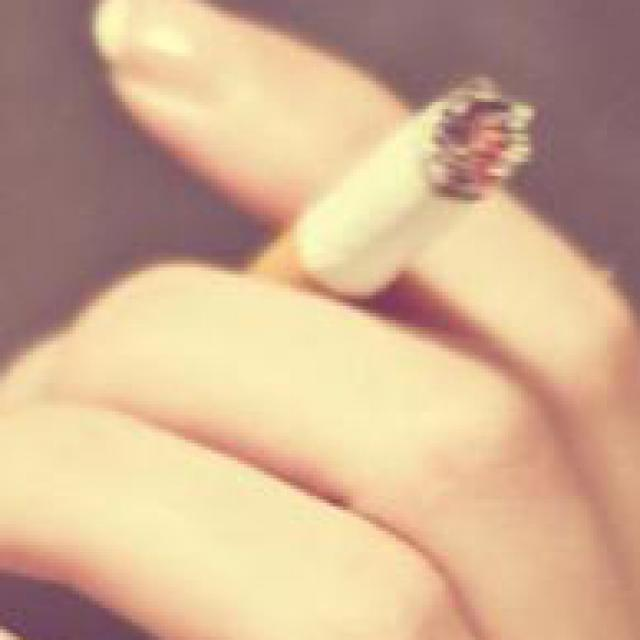smoking: (245, 77, 534, 308)
